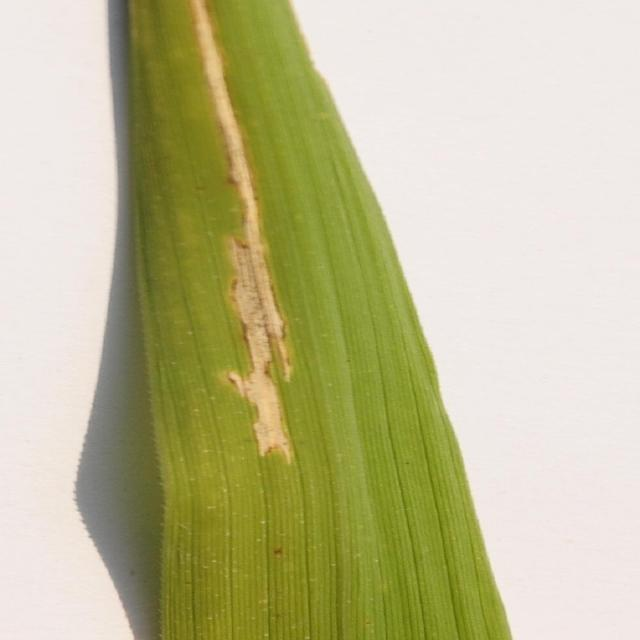Bacterial leaf blight: (183, 1, 320, 478)
